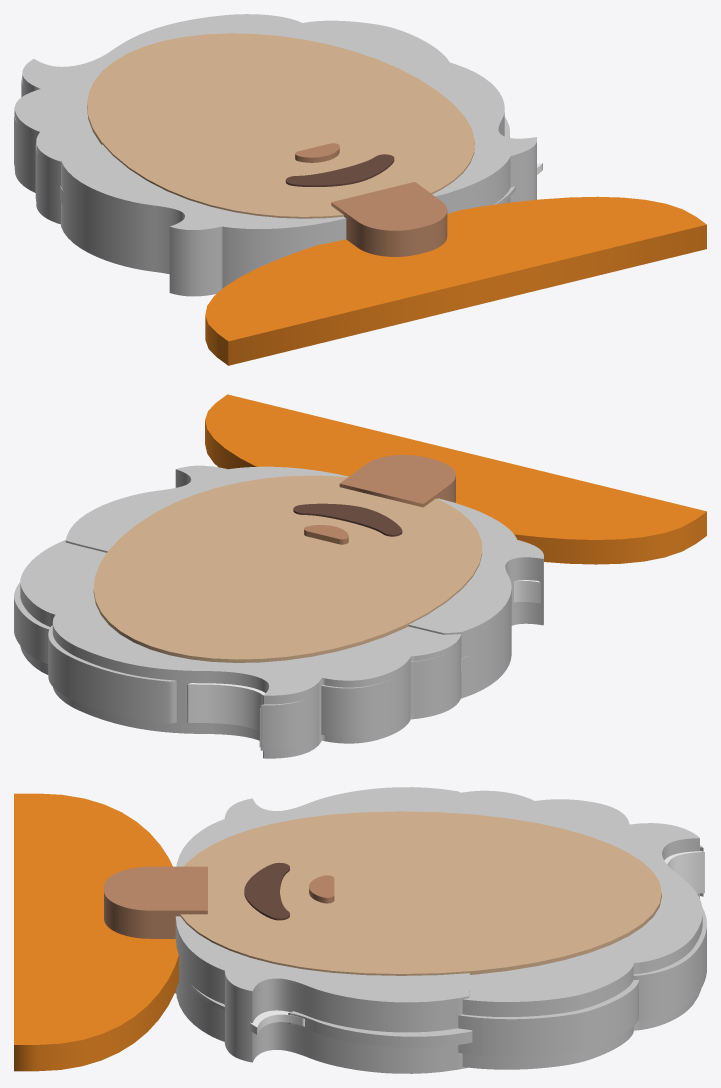
File: emoji_u1f9d1_1f3fc_200d_1f9b3.glb
The picture shows the model from 3 angles, top to bottom: view 1: azimuth 30°, elevation 25°; view 2: azimuth 150°, elevation 25°; view 3: azimuth 270°, elevation 25°; orthographic projection. The views are drawn at different scales.
Parts seen in each view (by area): view 1: emoji_u1f9d1_1f3fc_200d_1f9b3; view 2: emoji_u1f9d1_1f3fc_200d_1f9b3; view 3: emoji_u1f9d1_1f3fc_200d_1f9b3.
Boxes of the visible parts, box(x1,y1,x2,y2) form: emoji_u1f9d1_1f3fc_200d_1f9b3: box(14, 14, 706, 365); emoji_u1f9d1_1f3fc_200d_1f9b3: box(14, 394, 706, 758); emoji_u1f9d1_1f3fc_200d_1f9b3: box(14, 787, 706, 1073).
Bounding box in the file's own units: 0.0287 × 0.0046 × 0.0334.
